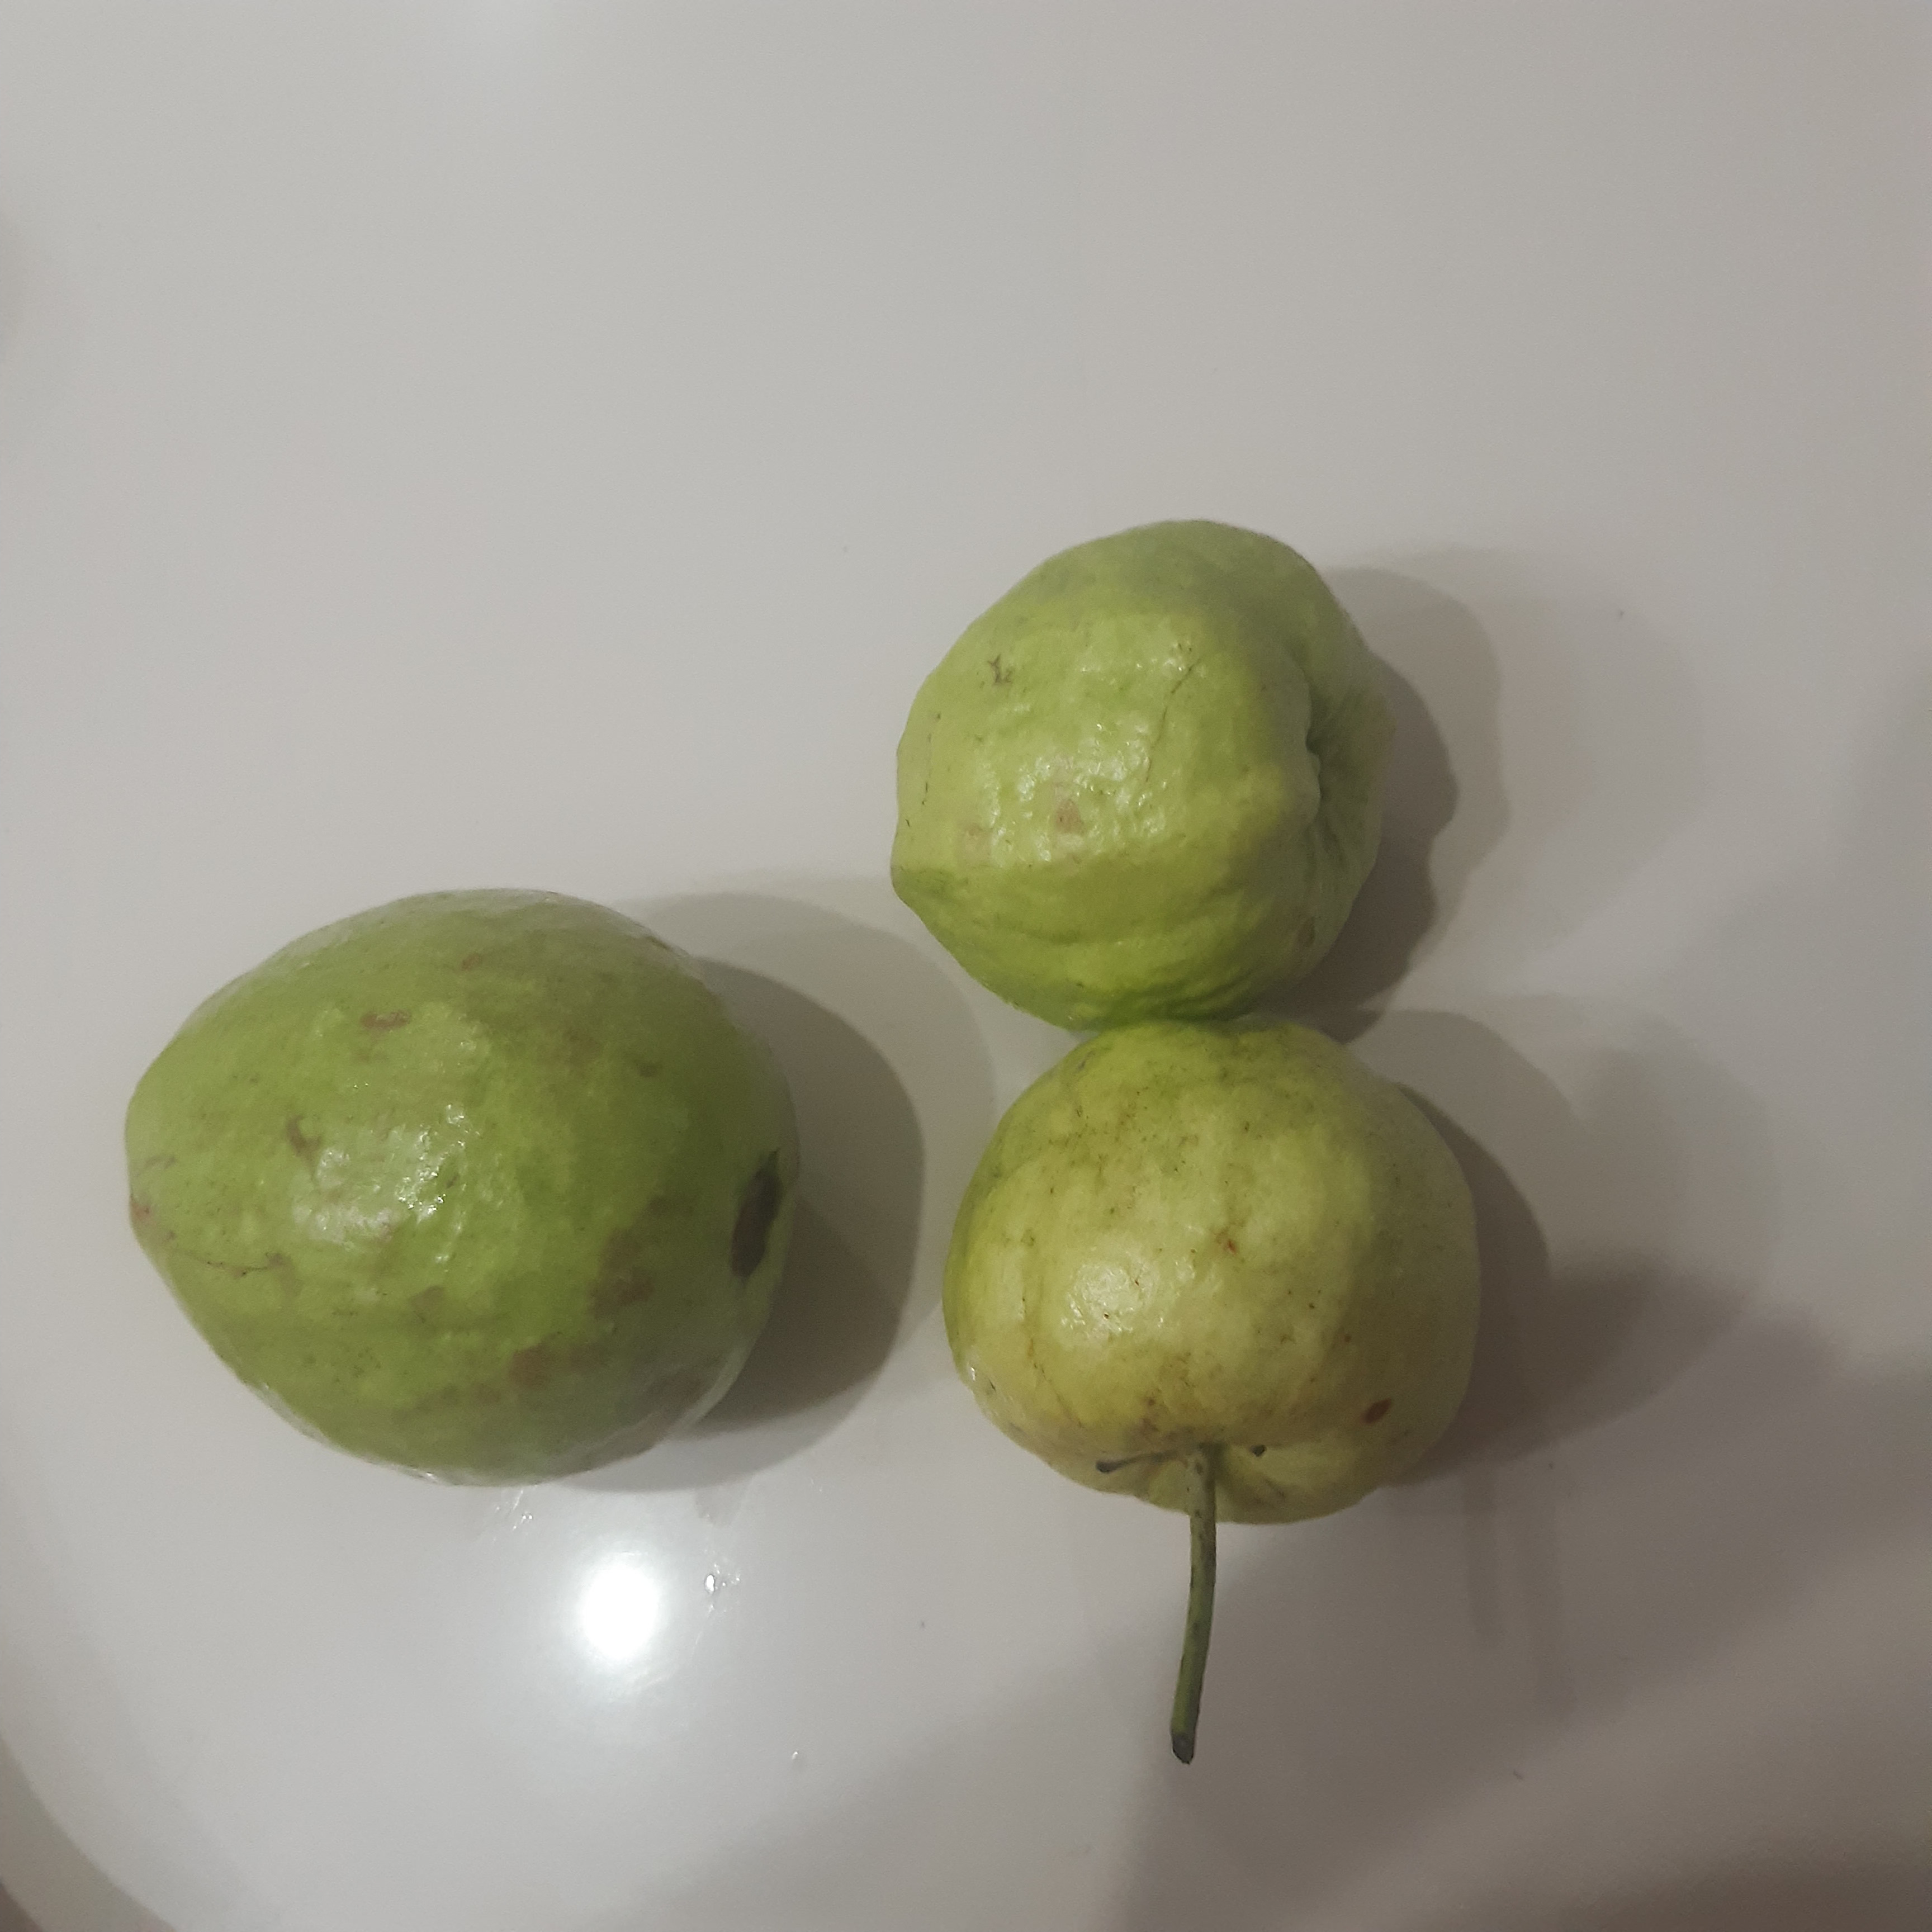Oi: (126, 886, 801, 1488), (943, 1014, 1483, 1525), (888, 513, 1389, 1030)
